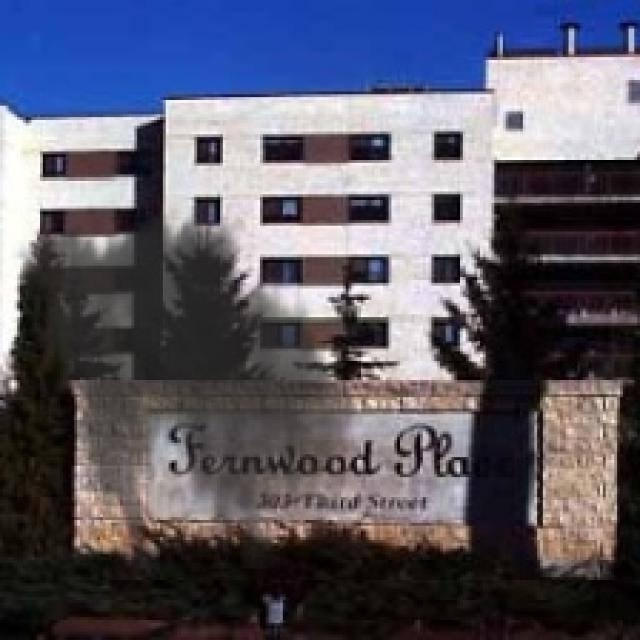smoke: (9, 194, 368, 569)
